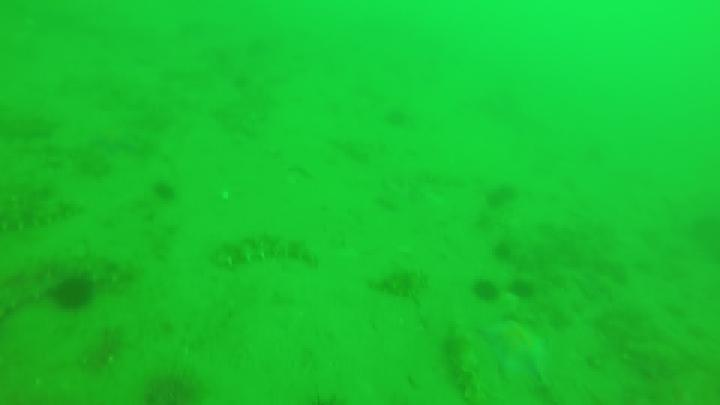echinus: (59, 280, 94, 308), (476, 281, 499, 304)
holothurian: (1, 253, 128, 317), (207, 235, 319, 267), (442, 331, 489, 405), (6, 186, 87, 228)
starfish: (484, 319, 547, 382)
